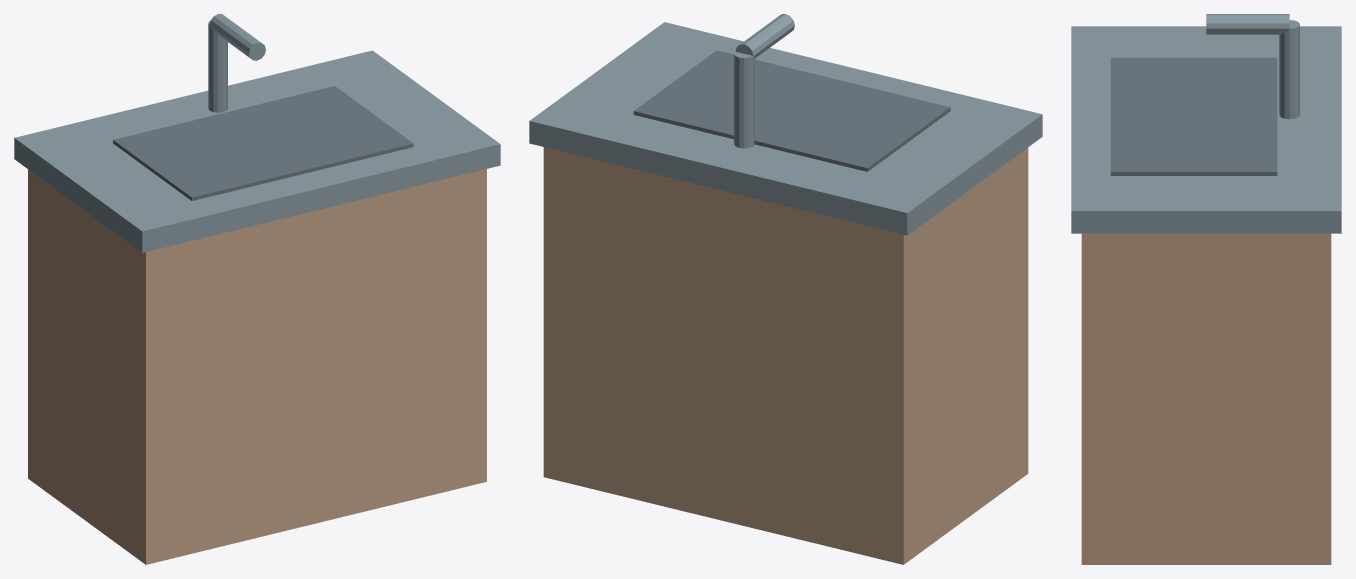
File: kitchen_sink.glb
The picture shows the model from 3 angles, left to right: view 1: azimuth 30°, elevation 25°; view 2: azimuth 150°, elevation 25°; view 3: azimuth 270°, elevation 25°; orthographic projection. The views are drawn at different scales.
Parts seen in each view (by area): view 1: kitchen_sink_000, kitchen_sink_001, kitchen_sink_002, kitchen_sink_003, kitchen_sink_004; view 2: kitchen_sink_000, kitchen_sink_001, kitchen_sink_002, kitchen_sink_003, kitchen_sink_004; view 3: kitchen_sink_000, kitchen_sink_001, kitchen_sink_002, kitchen_sink_003, kitchen_sink_004.
Part boxes in pixels (bbox=[...]): kitchen_sink_000: bbox=[28, 169, 486, 564]; kitchen_sink_001: bbox=[14, 50, 500, 252]; kitchen_sink_002: bbox=[113, 86, 413, 200]; kitchen_sink_003: bbox=[208, 20, 227, 112]; kitchen_sink_004: bbox=[209, 14, 265, 60]; kitchen_sink_000: bbox=[543, 147, 1028, 564]; kitchen_sink_001: bbox=[529, 22, 1042, 235]; kitchen_sink_002: bbox=[633, 50, 950, 171]; kitchen_sink_003: bbox=[734, 51, 754, 148]; kitchen_sink_004: bbox=[735, 14, 794, 58]; kitchen_sink_000: bbox=[1081, 233, 1331, 564]; kitchen_sink_001: bbox=[1071, 26, 1341, 233]; kitchen_sink_002: bbox=[1110, 57, 1277, 175]; kitchen_sink_003: bbox=[1279, 20, 1299, 119]; kitchen_sink_004: bbox=[1206, 14, 1289, 34].
Size of the model in its own units: 1.05 by 1.23 by 0.65.
